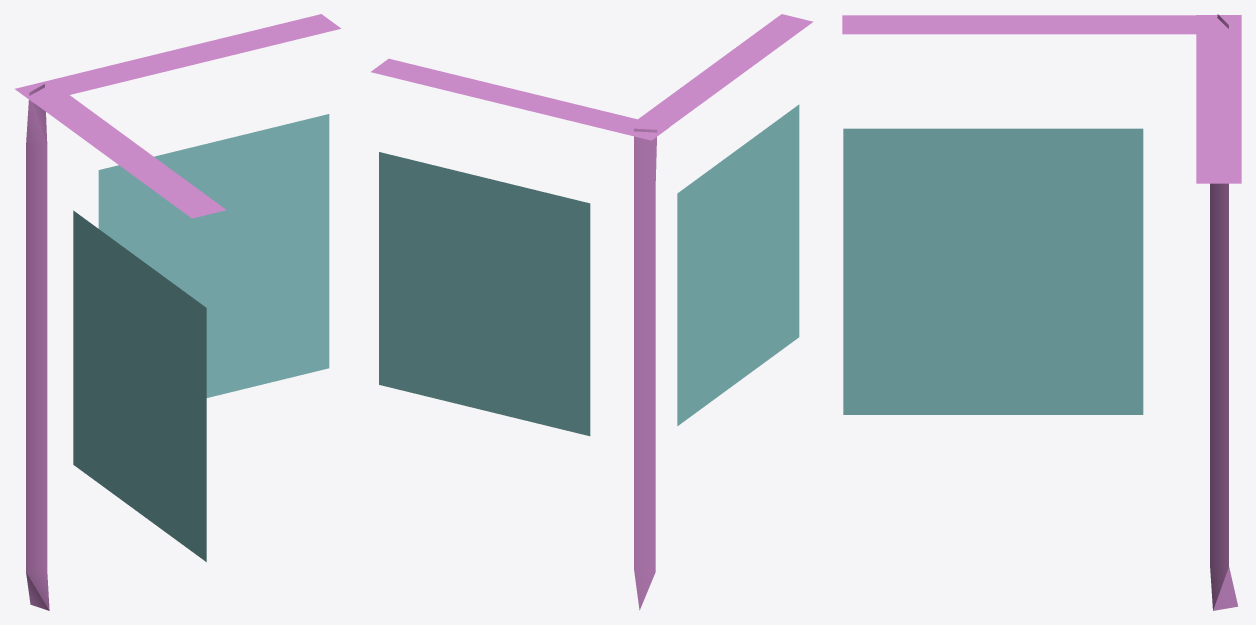
File: sub_Handrail_coner_LOD2.fbx
The picture shows the model from 3 angles, left to right: view 1: azimuth 30°, elevation 25°; view 2: azimuth 150°, elevation 25°; view 3: azimuth 270°, elevation 25°; orthographic projection. The views are drawn at different scales.
Parts seen in each view (by area): view 1: sub_Handrail_coner_LOD2; view 2: sub_Handrail_coner_LOD2; view 3: sub_Handrail_coner_LOD2.
Boxes of the visible parts, x1,y1,x2,y2 form: sub_Handrail_coner_LOD2: (15,14,340,610); sub_Handrail_coner_LOD2: (371,14,813,610); sub_Handrail_coner_LOD2: (842,14,1241,610).
Size of the model in its own units: 1.05 by 1.71 by 1.05.
